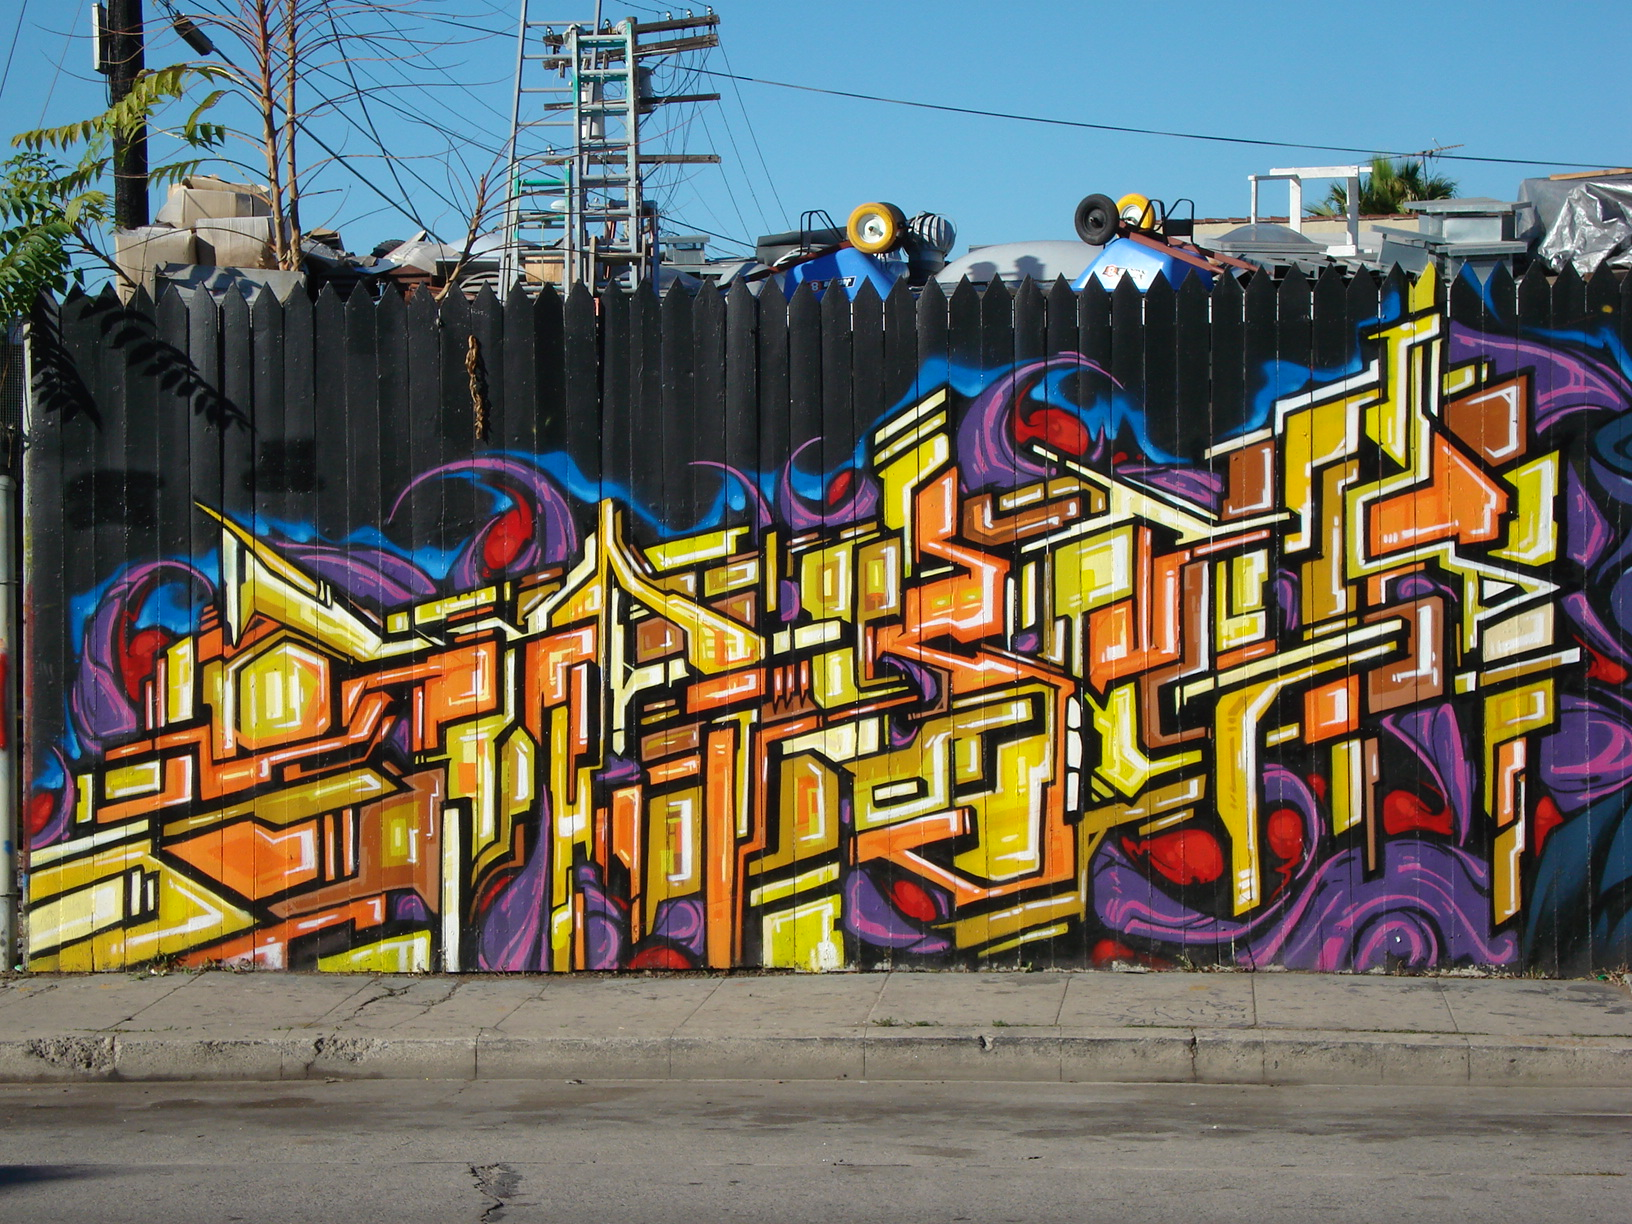graphite: (60, 300, 1632, 972)
